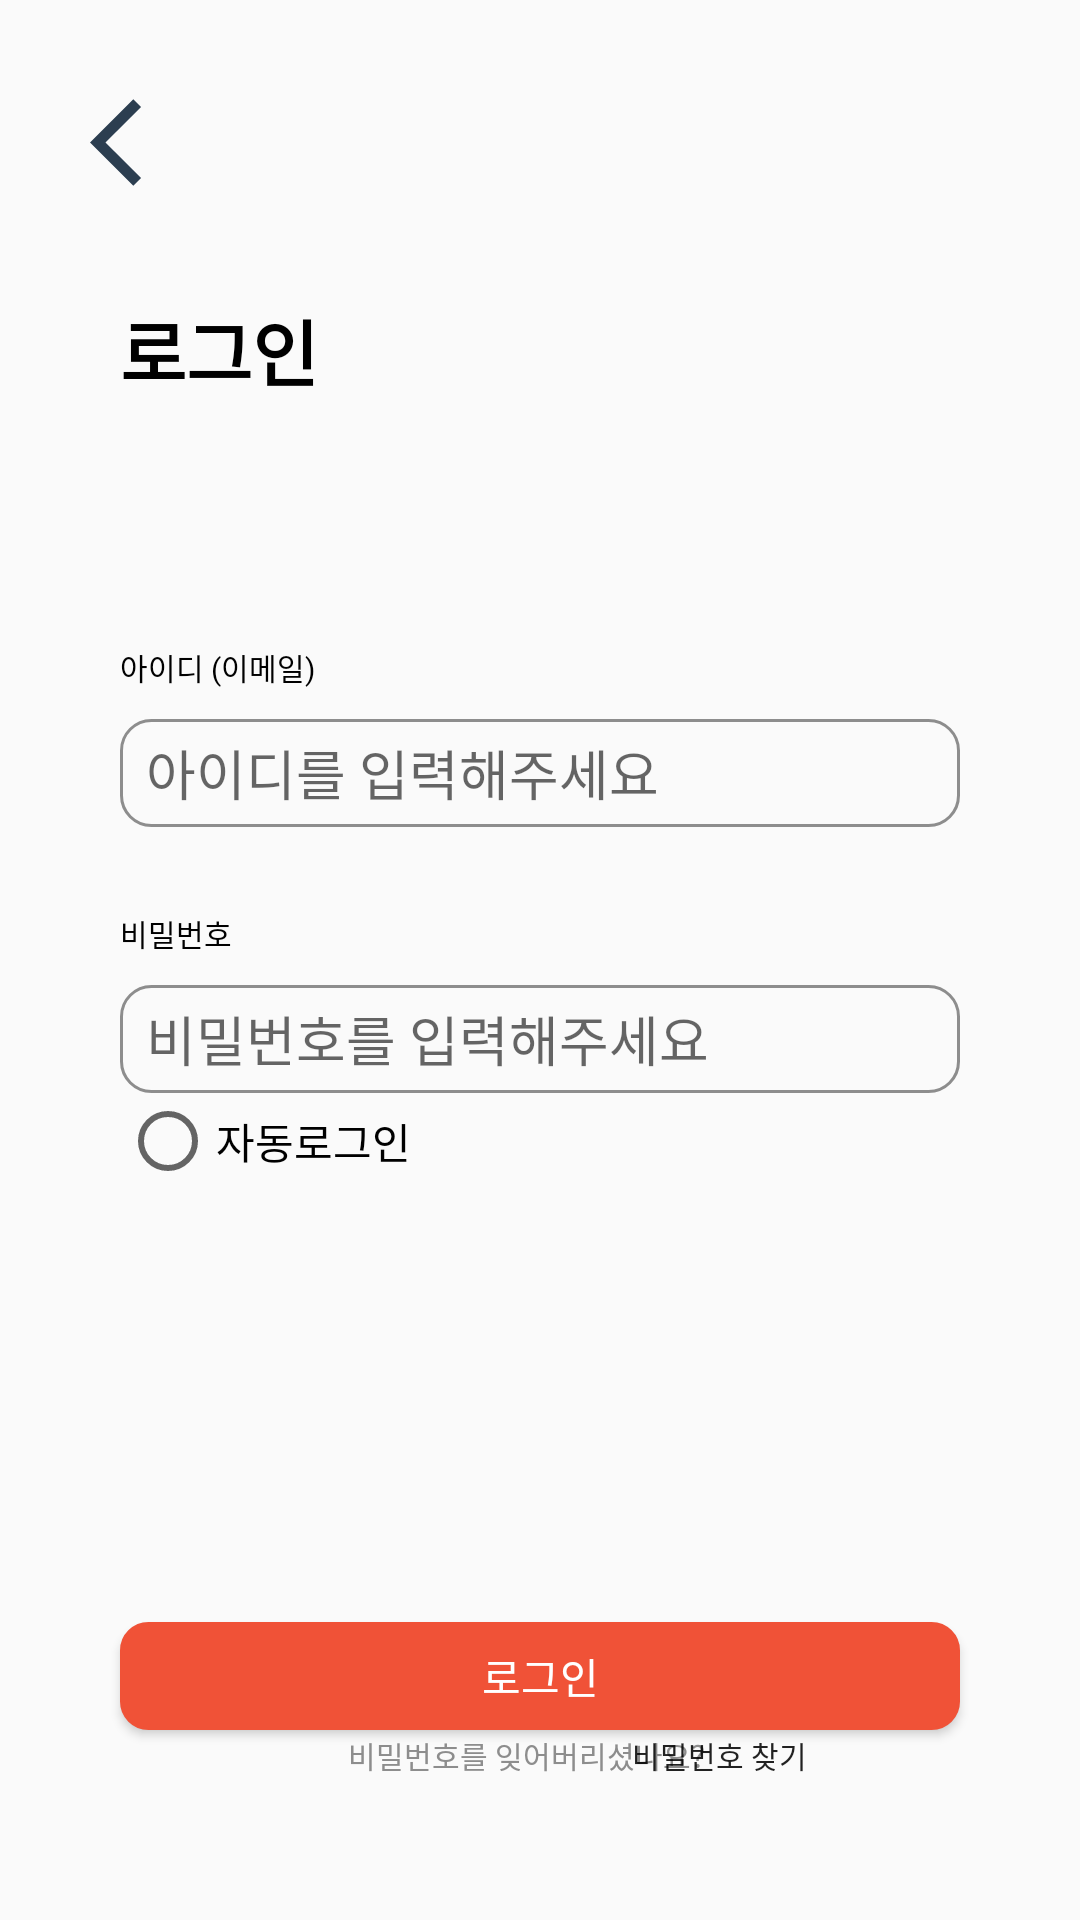

Screen size 1080 × 1920. Icon name, then its box in pixels as region(x1, y1, x2, y2):
arrow back: region(90, 99, 141, 186)
